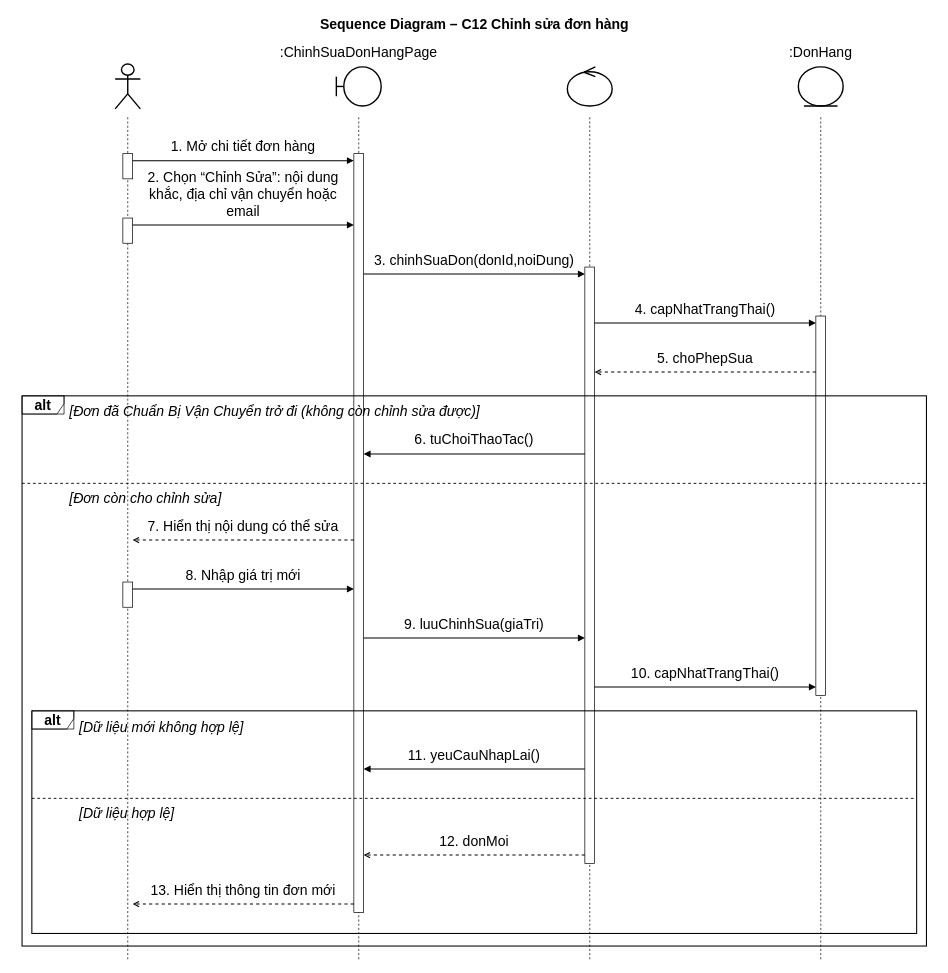
Image size: 948x973. Some labels were removed from this diagram. The shapes that lost their labels are listed below. From the top down, each one's centre as x and y in pixels, then its label:
point 127,86: :Khách hàng
point 589,86: :ChinhSuaDonHangController
